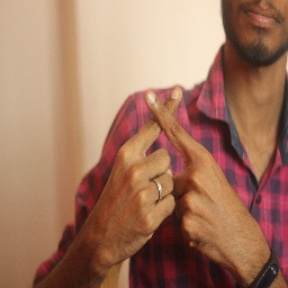X: (110, 83, 221, 188)
